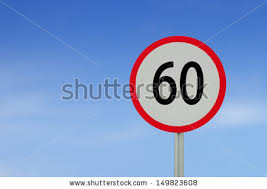Speed_limit_60km: (130, 36, 227, 132)
